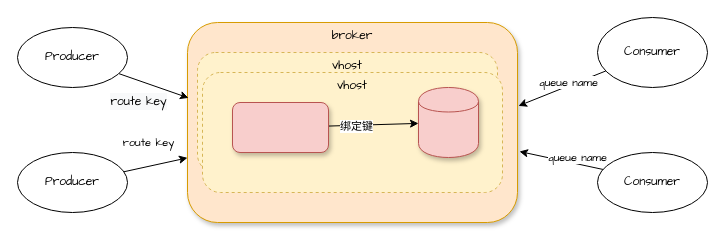
Some shapes in this 725 by 247 pixel diagram are drawn without their labels. The centre of each missing label's shape, as x and y in pixels:
"exchanger" belongs at (281,129).
"queue" belongs at (449,123).
